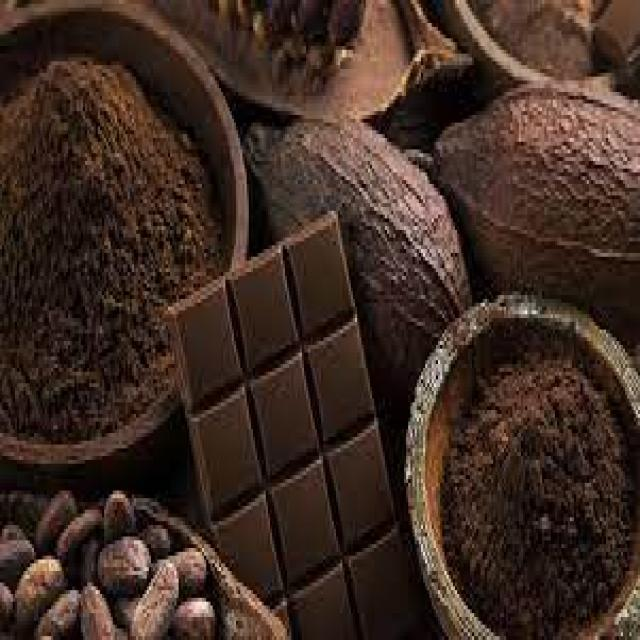Chocolate: (170, 211, 427, 640)
